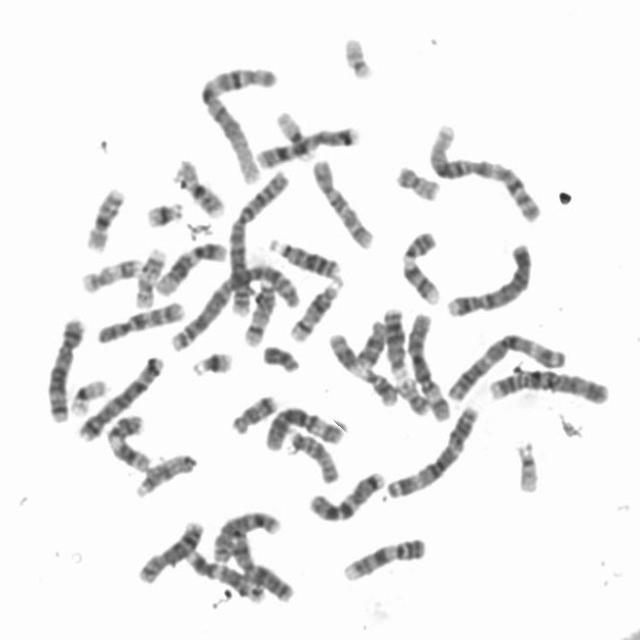A1: (423, 114, 546, 224), (194, 58, 280, 185)
A2: (165, 255, 302, 354), (224, 163, 292, 319)
A3: (381, 398, 482, 500), (441, 325, 570, 404)
B4: (441, 235, 537, 319), (483, 362, 614, 406)
B5: (73, 348, 168, 444), (40, 309, 88, 424)
C10: (306, 151, 377, 251), (91, 294, 188, 346)
C11: (322, 326, 402, 409), (101, 408, 155, 473)
C12: (181, 544, 268, 604), (151, 234, 230, 298)
C6: (402, 305, 455, 422), (260, 398, 349, 454)
C7: (252, 119, 362, 169), (303, 464, 389, 524)
C8: (132, 514, 206, 586), (208, 504, 284, 564)
C9: (337, 530, 430, 584), (396, 223, 445, 306)
D13: (263, 230, 344, 282), (378, 300, 411, 379)
D14: (284, 271, 346, 344), (238, 277, 278, 348)
D15: (282, 423, 342, 485), (130, 446, 200, 499)
E16: (168, 152, 228, 219), (80, 179, 127, 253)
E17: (75, 250, 145, 294), (130, 240, 168, 310)
E18: (226, 387, 281, 435), (352, 314, 389, 369)
F19: (271, 104, 318, 162), (65, 372, 109, 417)
F20: (391, 157, 444, 203), (392, 371, 432, 417)
G21: (185, 344, 236, 378), (140, 194, 186, 229)
G22: (338, 28, 377, 82), (511, 433, 544, 495)
X: (224, 524, 297, 604)
Y: (257, 337, 303, 374)
